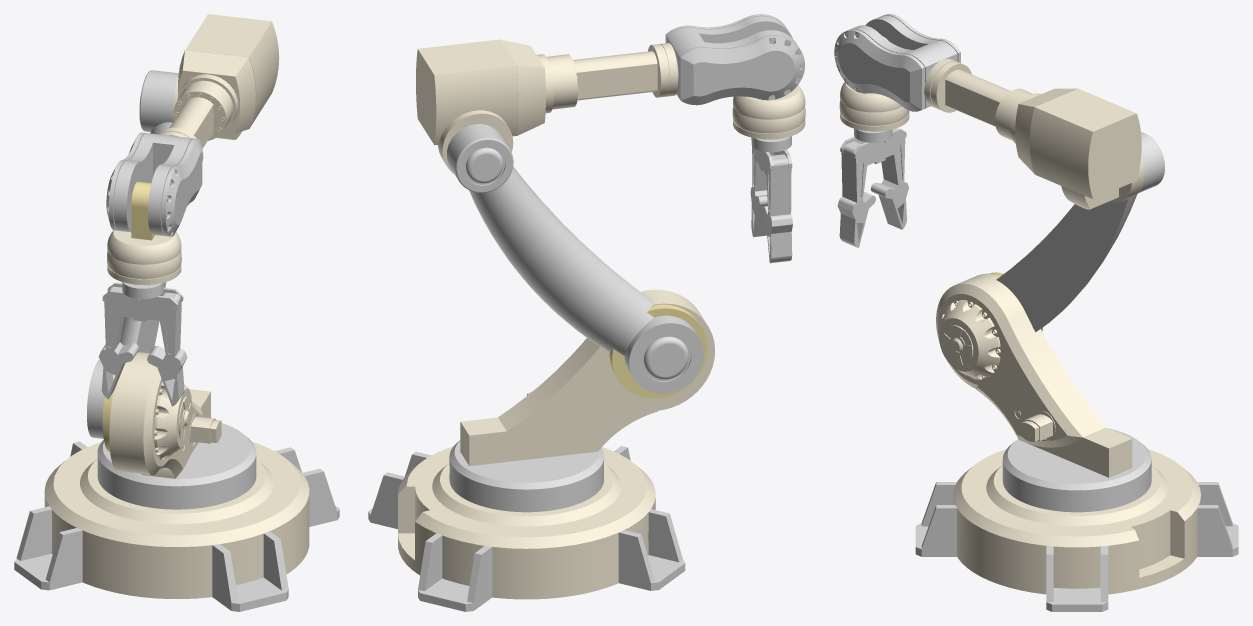
File: robotic arm-v4.gltf
The picture shows the model from 3 angles, left to right: view 1: azimuth 30°, elevation 25°; view 2: azimuth 150°, elevation 25°; view 3: azimuth 270°, elevation 25°; orthographic projection. The views are drawn at different scales.
Parts seen in each view (by area): view 1: Base, Structure001, [Interactable] 001, Structure4, Structure2, Cube, Component 2, Foot01, SmallerBase, Foot02, ClampHolder, Clamp1 (+5 smaller); view 2: Component 2, Base, Structure001, Structure4, Structure2, Cube, [Interactable] 001, Foot01, SmallerBase, Foot04, Clamp2, [Interactable] 002 (+6 smaller); view 3: Base, Structure001, Cube, Component 2, Structure4, [Interactable] 001, Structure2, SmallerBase, Foot04, Foot02, Clamp1, Foot03 (+5 smaller).
Boxes of the visible parts, <box> form: Base: <box>44,442,309,598</box>; Structure001: <box>109,352,221,478</box>; [Interactable] 001: <box>97,423,256,509</box>; Structure4: <box>106,132,202,236</box>; Structure2: <box>157,50,255,161</box>; Cube: <box>185,14,279,128</box>; Component 2: <box>87,70,178,438</box>; Foot01: <box>14,506,82,590</box>; SmallerBase: <box>80,459,273,524</box>; Foot02: <box>212,531,288,611</box>; ClampHolder: <box>102,282,183,321</box>; Clamp1: <box>147,292,187,406</box>; Component 2: <box>447,124,703,393</box>; Base: <box>398,446,655,599</box>; Structure001: <box>460,289,714,466</box>; Structure4: <box>665,14,804,105</box>; Structure2: <box>501,39,678,135</box>; Cube: <box>416,39,518,145</box>; [Interactable] 001: <box>449,440,604,512</box>; Foot01: <box>618,509,685,590</box>; SmallerBase: <box>432,463,621,526</box>; Foot04: <box>418,533,492,611</box>; Clamp2: <box>763,154,792,263</box>; [Interactable] 002: <box>609,304,707,398</box>; Base: <box>953,449,1201,594</box>; Structure001: <box>936,273,1132,477</box>; Cube: <box>1029,88,1141,198</box>; Component 2: <box>996,132,1164,332</box>; Structure4: <box>834,14,960,111</box>; [Interactable] 001: <box>1002,428,1151,512</box>; Structure2: <box>924,59,1077,173</box>; SmallerBase: <box>986,465,1167,525</box>; Foot04: <box>1197,482,1238,556</box>; Foot02: <box>915,482,956,556</box>; Clamp1: <box>837,141,875,247</box>; Foot03: <box>1046,546,1108,611</box>.
Size of the model in its own units: 1.28 by 1.84 by 1.47.
